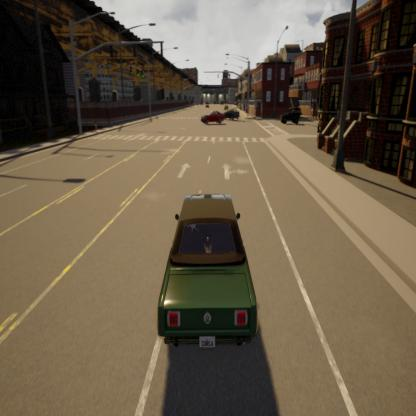Cars: (148, 178, 272, 372), (274, 96, 307, 134), (200, 103, 226, 133), (224, 102, 244, 128), (201, 98, 211, 112)
